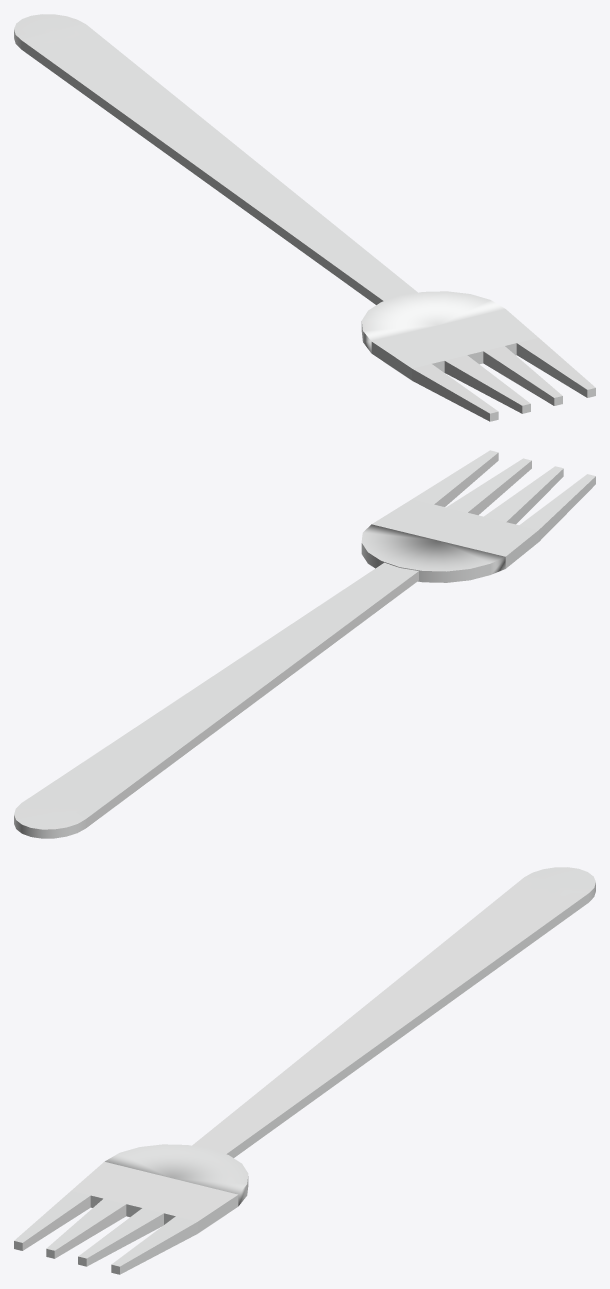
The model's file is Tenedor.fbx.
The picture shows the model from 3 angles, top to bottom: view 1: azimuth 30°, elevation 25°; view 2: azimuth 150°, elevation 25°; view 3: azimuth 330°, elevation 25°; orthographic projection.
Visible parts, largest first — view 1: Tenedor_Base; view 2: Tenedor_Base; view 3: Tenedor_Base.
Part boxes in pixels (x1,y1,x2,y2): Tenedor_Base: (14,14,595,421); Tenedor_Base: (14,450,595,838); Tenedor_Base: (14,867,595,1274).
Size of the model in its own units: 8.53 by 1.49 by 56.39.
1 material, 1 textured.
